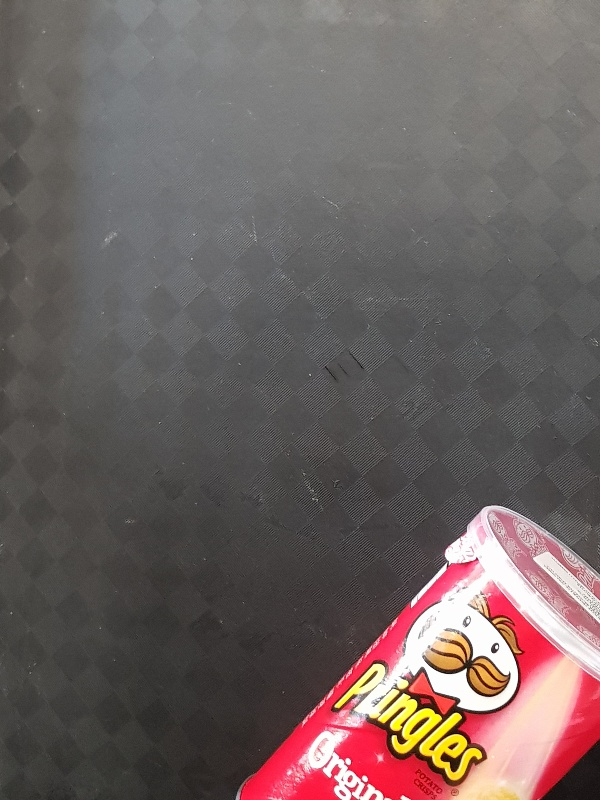Pringles Original: (233, 502, 599, 800)
